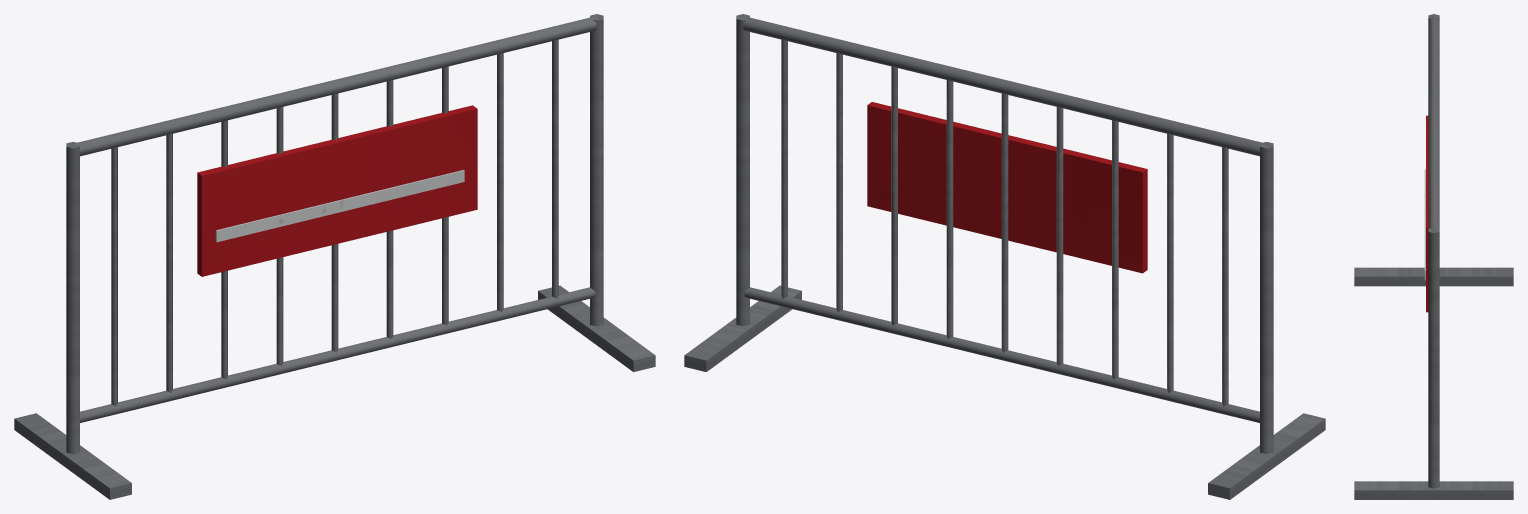
Rendered from SM_INFD_CrowdBarrier.fbx.
3 views of the same model, side by side, from view 1: azimuth 30°, elevation 25°; view 2: azimuth 150°, elevation 25°; view 3: azimuth 270°, elevation 25° (orthographic). The views are drawn at different scales.
Parts seen in each view (by area): view 1: SM_INFD_CrowdBarrier_LOD0; view 2: SM_INFD_CrowdBarrier_LOD0; view 3: SM_INFD_CrowdBarrier_LOD0.
Part boxes in pixels (left/top/right/bottom): SM_INFD_CrowdBarrier_LOD0: left=14, top=14, right=655, bottom=499; SM_INFD_CrowdBarrier_LOD0: left=684, top=14, right=1325, bottom=499; SM_INFD_CrowdBarrier_LOD0: left=1354, top=14, right=1513, bottom=499.
Size of what is drawn, in the model's own units: 1.98 by 1.11 by 0.6.
